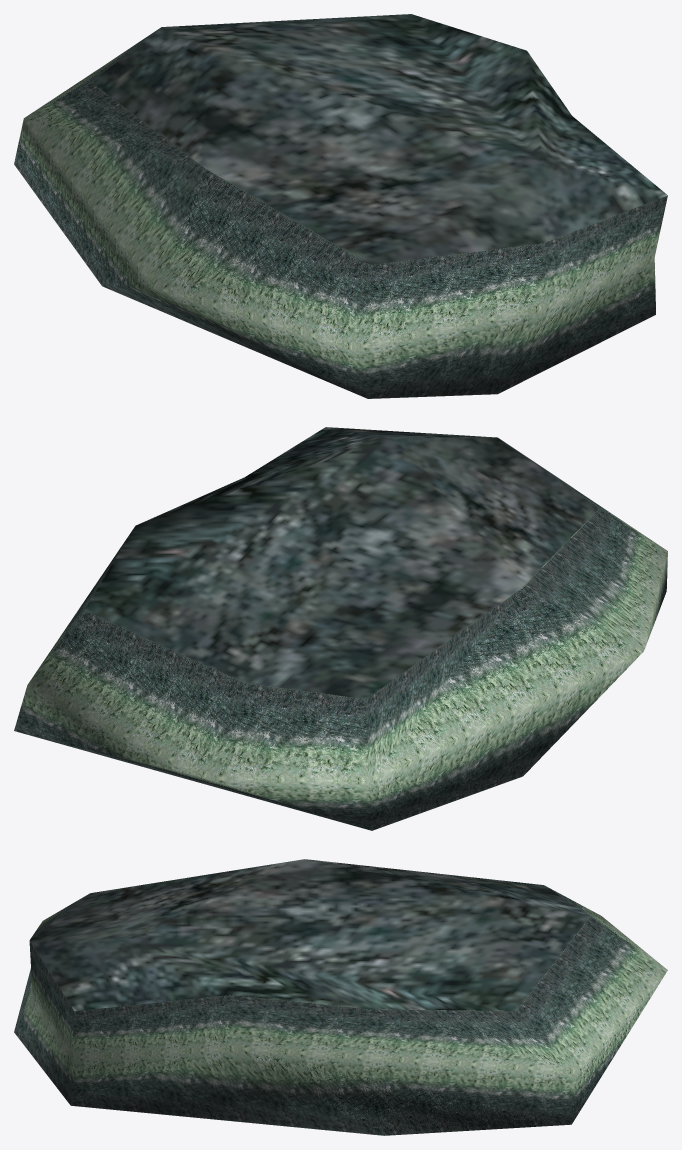
Rendered from rock_beach_dark_lg_a1_l2.fbx.
3 renders of one model, top to bottom at view 1: azimuth 30°, elevation 25°; view 2: azimuth 150°, elevation 25°; view 3: azimuth 270°, elevation 25°, orthographic. The views are drawn at different scales.
Visible parts, largest first — view 1: mesh_node; view 2: mesh_node; view 3: mesh_node.
Part boxes in pixels (x1,y1,x2,y2): mesh_node: (14, 14, 667, 398); mesh_node: (14, 427, 667, 830); mesh_node: (14, 859, 667, 1135).
Bounding box in the file's own units: 17.74 × 6.22 × 25.22.
